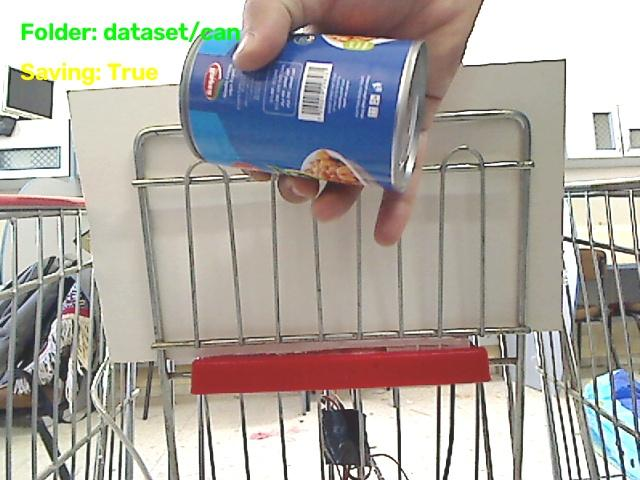can: (180, 34, 426, 191)
